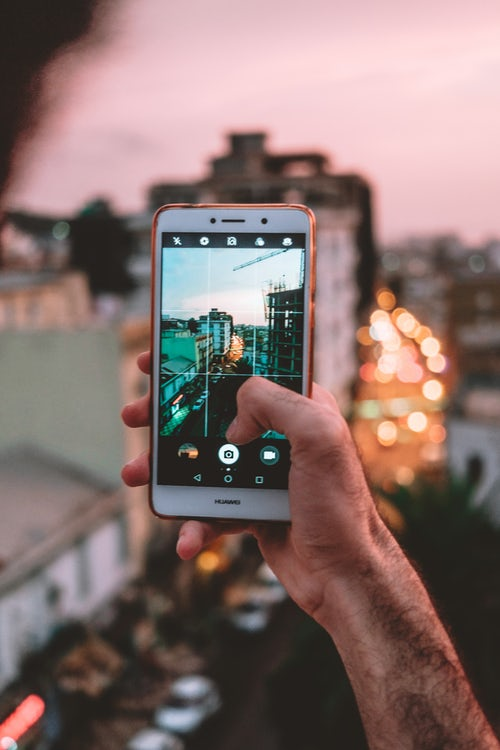phone: (145, 199, 320, 533)
